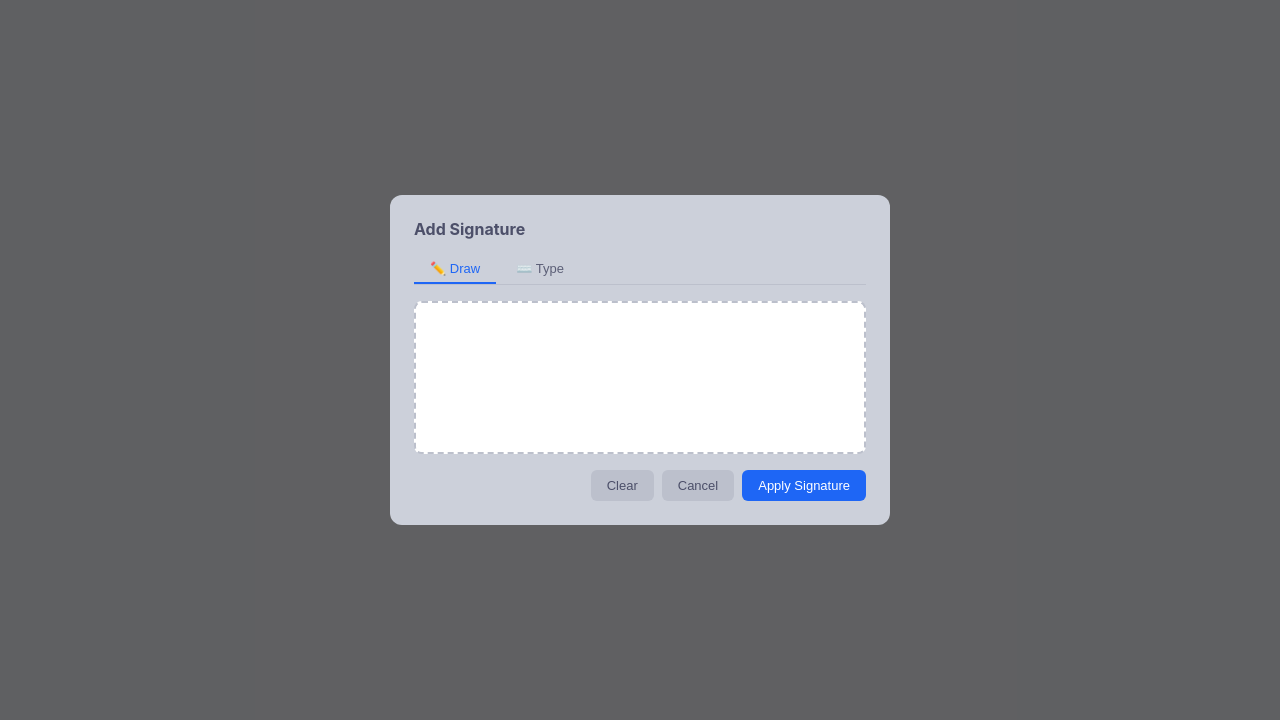
SignaturePad › type tab shows a text input
Click the button "⌨️ Type".
click(540, 269)  # box x1=500 y1=255 x2=580 y2=284
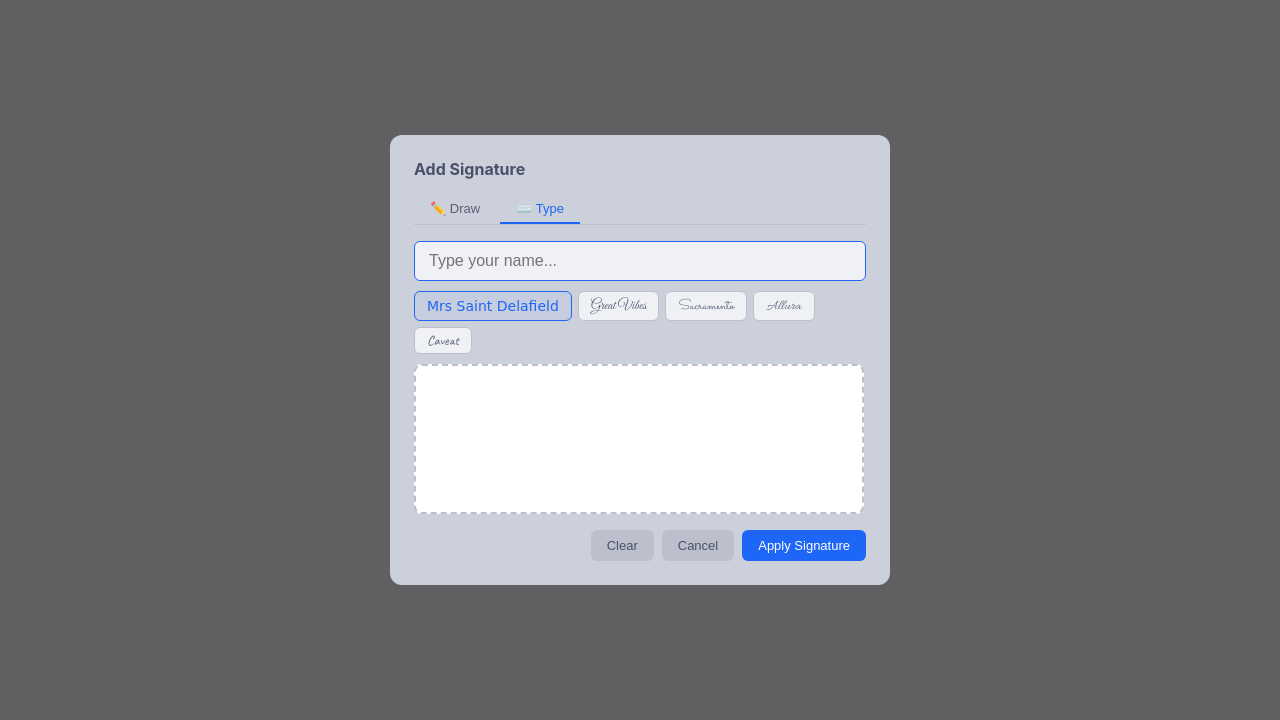
expect the field with placeholder "Type your name..." is shown: met, box x1=414 y1=241 x2=866 y2=281
